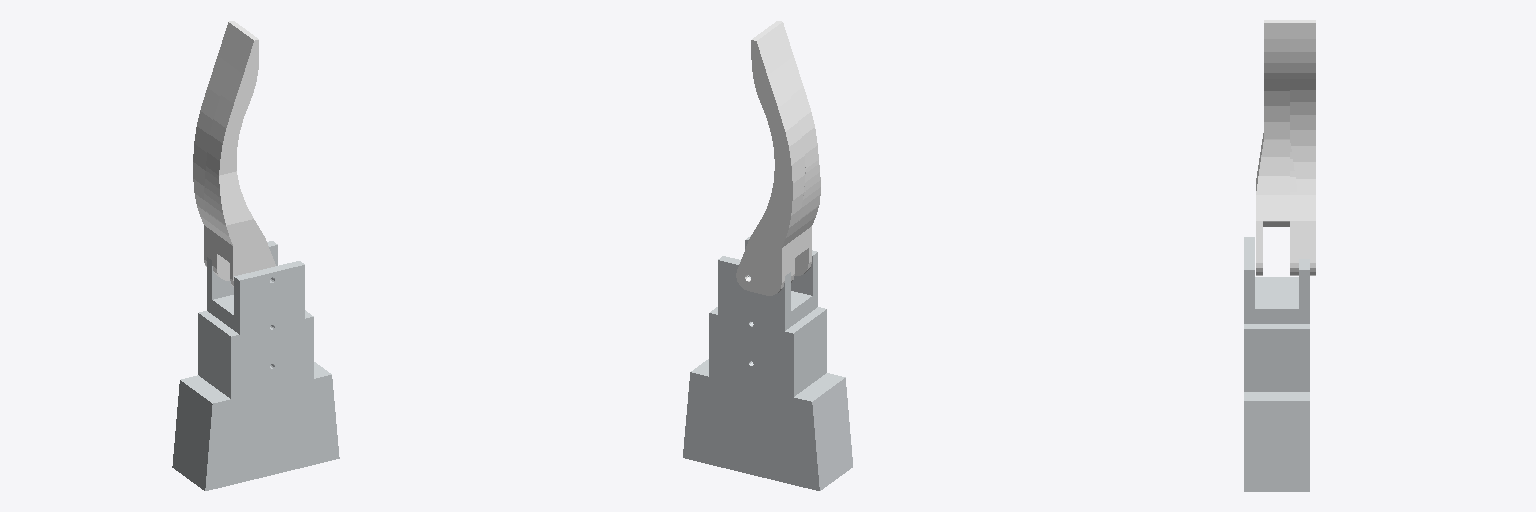
The robot description file, URDF, robot "gripper_sim":
<?xml version="1.0" encoding="utf-8"?>
<!-- This URDF was automatically created by SolidWorks to URDF Exporter! Originally created by [author] ([email redacted]) 
     Commit Version: 1.5.1-0-g916b5db  Build Version: 1.5.7152.31018
     For more information, please see http://wiki.ros.org/sw_urdf_exporter -->
<robot
  name="gripper_sim">
  <link
    name="base_link">
    <inertial>
      <origin
        xyz="0.041011 -0.075216 0.046793"
        rpy="0 0 0" />
      <mass
        value="0.78663" />
      <inertia
        ixx="0.00092457"
        ixy="1.6963E-18"
        ixz="2.6544E-21"
        iyy="0.00046089"
        iyz="1.7536E-20"
        izz="0.0011861" />
    </inertial>
    <visual>
      <origin
        xyz="0 0 0"
        rpy="0 0 0" />
      <geometry>
        <mesh
          filename="package://gripper_sim/meshes/base_link.STL" />
      </geometry>
      <material
        name="">
        <color
          rgba="0.89804 0.91765 0.92941 1" />
      </material>
    </visual>
    <collision>
      <origin
        xyz="0 0 0"
        rpy="0 0 0" />
      <geometry>
        <mesh
          filename="package://gripper_sim/meshes/base_link.STL" />
      </geometry>
    </collision>
  </link>
  <link
    name="finger1_link">
    <inertial>
      <origin
        xyz="0.056976 0.015337 0.01676"
        rpy="0 0 0" />
      <mass
        value="0.0167" />
      <inertia
        ixx="1.7002E-06"
        ixy="-2.6215E-07"
        ixz="1.4659E-12"
        iyy="2.8213E-05"
        iyz="-1.4394E-13"
        izz="2.845E-05" />
    </inertial>
    <visual>
      <origin
        xyz="0 0 0"
        rpy="0 0 0" />
      <geometry>
        <mesh
          filename="package://gripper_sim/meshes/finger1_link.STL" />
      </geometry>
      <material
        name="">
        <color
          rgba="1 1 1 1" />
      </material>
    </visual>
    <collision>
      <origin
        xyz="0 0 0"
        rpy="0 0 0" />
      <geometry>
        <mesh
          filename="package://gripper_sim/meshes/finger1_link.STL" />
      </geometry>
    </collision>
  </link>
  <joint
    name="finger1_joint"
    type="continuous">
    <origin
      xyz="0.041011 -0.058456 0.12221"
      rpy="1.5708 -1.5708 0" />
    <parent
      link="base_link" />
    <child
      link="finger1_link" />
    <axis
      xyz="0 0 1" />
  </joint>
  <link
    name="finger2_link">
    <inertial>
      <origin
        xyz="0.052556 0.013896 -0.0074998"
        rpy="0 0 0" />
      <mass
        value="0.016641" />
      <inertia
        ixx="1.4331E-06"
        ixy="-1.1571E-06"
        ixz="-2.2794E-10"
        iyy="3.2566E-05"
        iyz="-2.3298E-11"
        izz="3.3375E-05" />
    </inertial>
    <visual>
      <origin
        xyz="0 0 0"
        rpy="0 0 0" />
      <geometry>
        <mesh
          filename="package://gripper_sim/meshes/finger2_link.STL" />
      </geometry>
      <material
        name="">
        <color
          rgba="1 1 1 1" />
      </material>
    </visual>
    <collision>
      <origin
        xyz="0 0 0"
        rpy="0 0 0" />
      <geometry>
        <mesh
          filename="package://gripper_sim/meshes/finger2_link.STL" />
      </geometry>
    </collision>
  </link>
  <joint
    name="finger2_joint"
    type="continuous">
    <origin
      xyz="0.041011 -0.067716 0.12221"
      rpy="1.5708 -1.5708 0" />
    <parent
      link="base_link" />
    <child
      link="finger2_link" />
    <axis
      xyz="0 0 1" />
  </joint>
</robot>

--- Render facts (derived) ---
3 views of the same robot in one strip: view 1: azimuth 30°, elevation 25°; view 2: azimuth 150°, elevation 25°; view 3: azimuth 270°, elevation 25° (orthographic).
Robot: gripper_sim — 3 links, 2 joints (2 continuous); root link base_link; default pose: every joint at zero.
Visible links, largest first — view 1: base_link, finger1_link, finger2_link; view 2: base_link, finger2_link, finger1_link; view 3: base_link, finger1_link, finger2_link.
Boxes of the visible links, <box> form: base_link: <box>172,241,339,490</box>; finger1_link: <box>204,30,275,286</box>; finger2_link: <box>193,21,245,280</box>; base_link: <box>683,236,852,490</box>; finger2_link: <box>736,30,805,295</box>; finger1_link: <box>765,21,820,275</box>; base_link: <box>1244,237,1309,491</box>; finger1_link: <box>1256,20,1297,275</box>; finger2_link: <box>1290,20,1315,275</box>.
Bounding box of the posed robot: 0.09 × 0.0415 × 0.2745 m (x, y, z).
3 mesh visuals loaded from 3 distinct referenced files (3 binary STL).